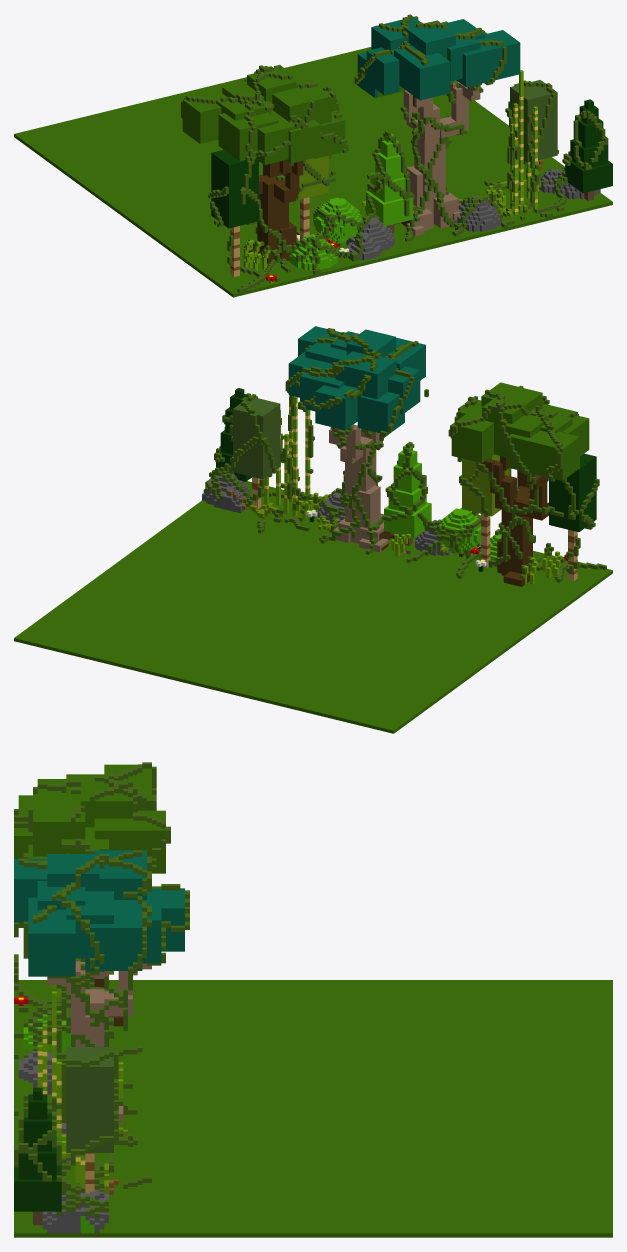
The model's file is tiles 1 bords.obj.
3 views of the same model, one above another, from view 1: azimuth 30°, elevation 25°; view 2: azimuth 150°, elevation 25°; view 3: azimuth 270°, elevation 25° (orthographic). The views are drawn at different scales.
Parts seen in each view (by area): view 1: tiles 1 bords; view 2: tiles 1 bords; view 3: tiles 1 bords.
Part boxes in pixels (bbox=[...]): tiles 1 bords: bbox=[14, 14, 612, 297]; tiles 1 bords: bbox=[14, 326, 612, 733]; tiles 1 bords: bbox=[14, 762, 612, 1237].
Size of the model in its own units: 126 by 63 by 126.
